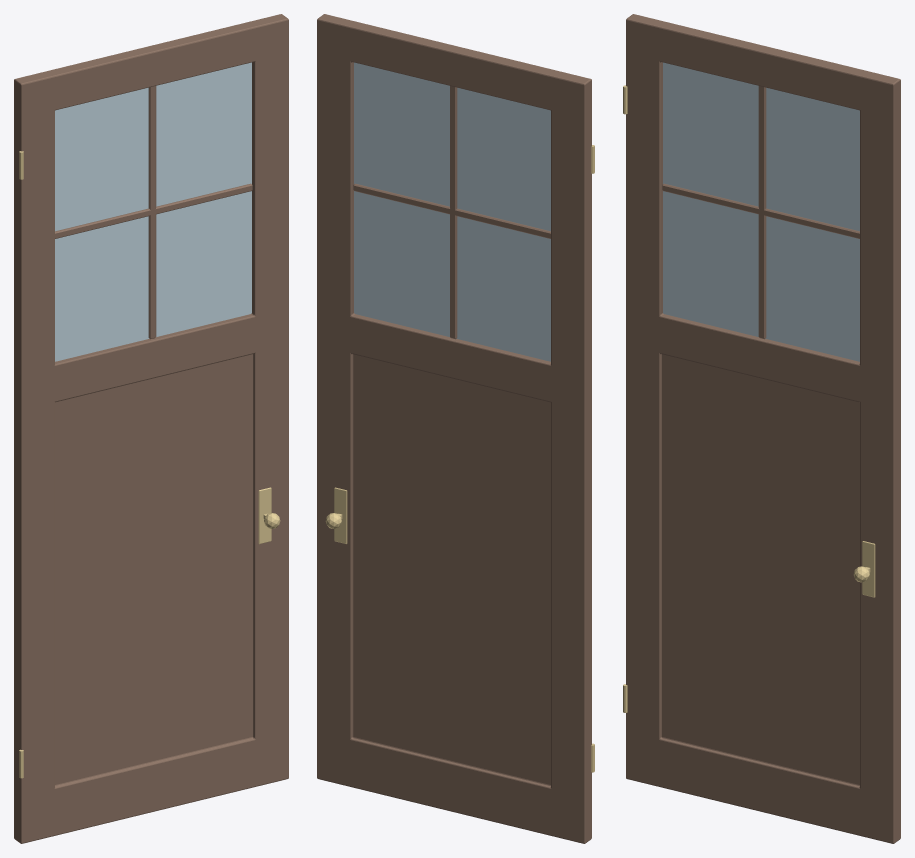
Rendered from door_leaf_entry.glb.
The picture shows the model from 3 angles, left to right: view 1: azimuth 30°, elevation 25°; view 2: azimuth 150°, elevation 25°; view 3: azimuth 330°, elevation 25°; orthographic projection.
Visible parts, largest first — view 1: door_leaf_entry_door, door_leaf_entry_glass, door_leaf_entry_brass; view 2: door_leaf_entry_door, door_leaf_entry_glass, door_leaf_entry_brass; view 3: door_leaf_entry_door, door_leaf_entry_glass, door_leaf_entry_brass.
Part boxes in pixels (x1,y1,x2,y2): door_leaf_entry_door: [14, 14, 288, 843]; door_leaf_entry_glass: [55, 62, 251, 361]; door_leaf_entry_brass: [19, 151, 280, 778]; door_leaf_entry_door: [317, 14, 591, 843]; door_leaf_entry_glass: [354, 62, 550, 361]; door_leaf_entry_brass: [325, 145, 594, 772]; door_leaf_entry_door: [626, 14, 900, 843]; door_leaf_entry_glass: [663, 62, 859, 361]; door_leaf_entry_brass: [623, 85, 875, 712].
Bounding box in the file's own units: 1.05 × 2.82 × 0.206.
